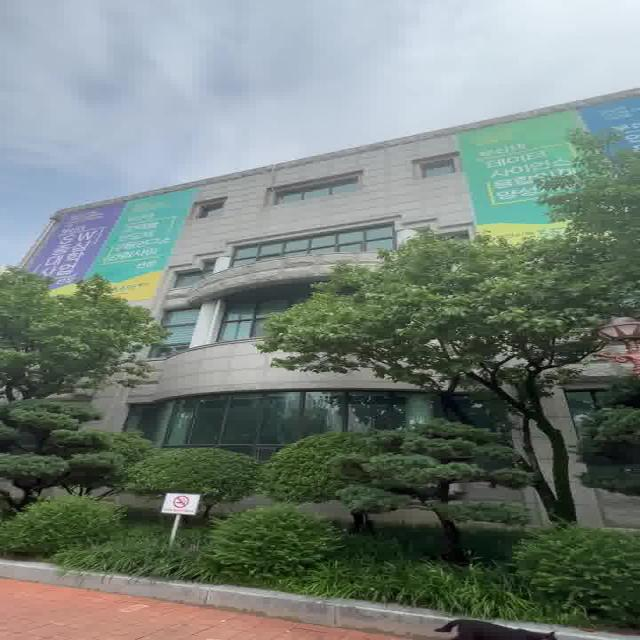building: (137, 147, 398, 415)
